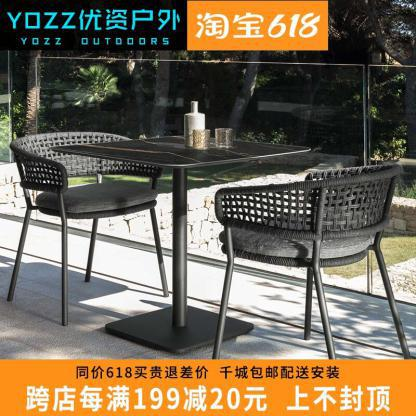table: (49, 131, 314, 359)
